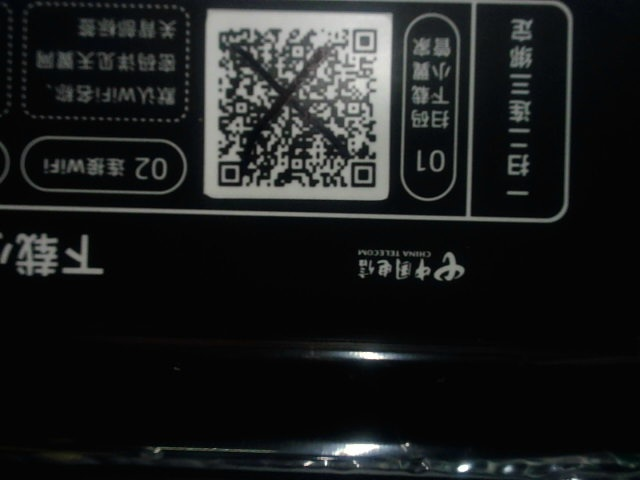AB_ChinaTelecom: (348, 242, 469, 284)
